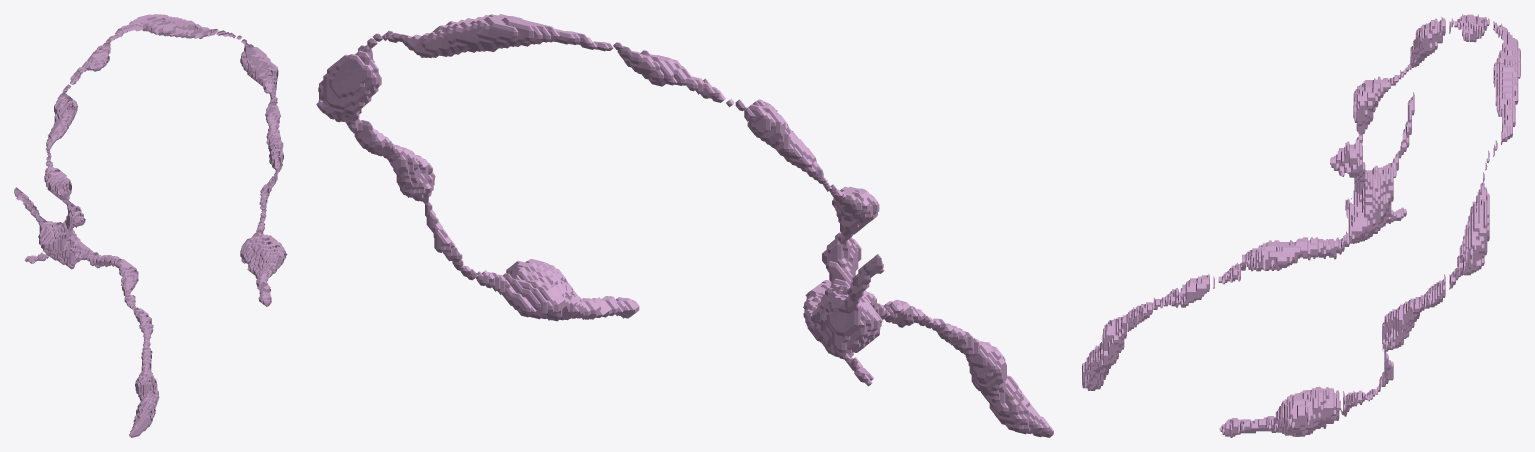
The model's file is SVV_RICL.gltf.
3 renders of one model, left to right at view 1: azimuth 30°, elevation 25°; view 2: azimuth 150°, elevation 25°; view 3: azimuth 270°, elevation 25°, orthographic. The views are drawn at different scales.
Parts seen in each view (by area): view 1: RICL; view 2: RICL; view 3: RICL.
Boxes of the visible parts, bbox=[...] form: RICL: bbox=[14, 14, 287, 437]; RICL: bbox=[316, 14, 1053, 437]; RICL: bbox=[1082, 14, 1520, 437].
Bounding box in the file's own units: 76838 × 74286 × 65052.
